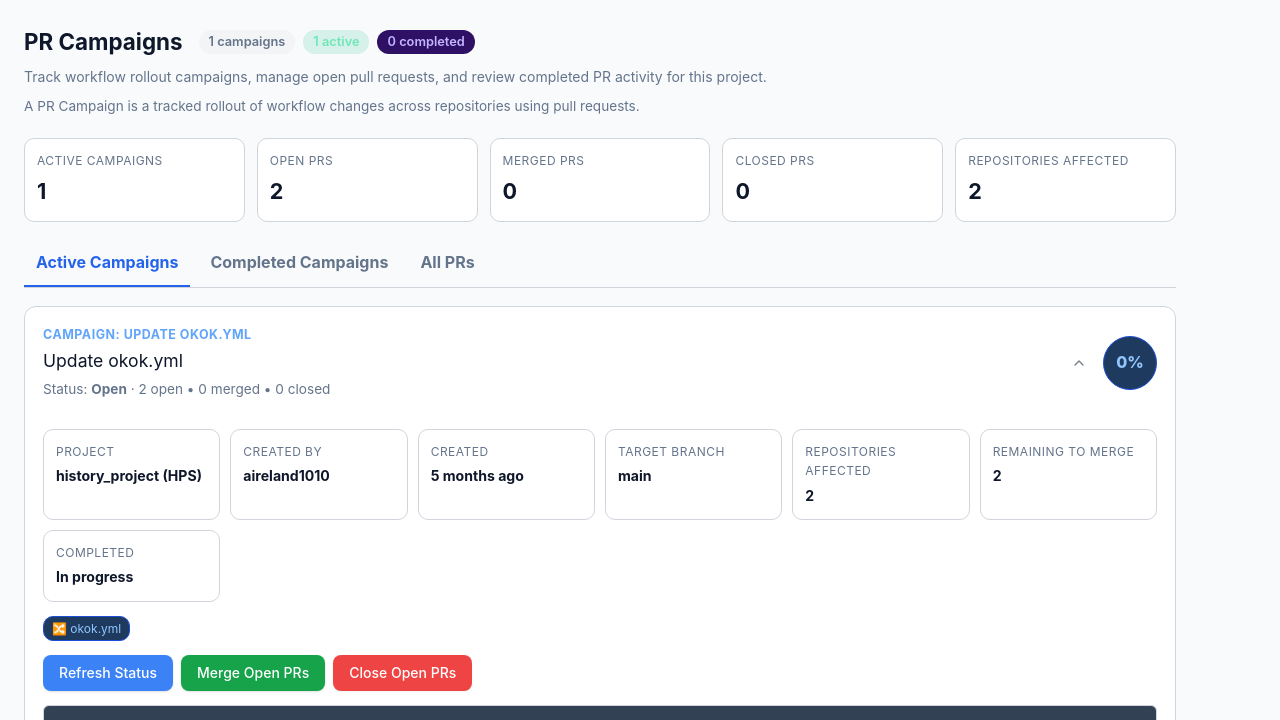
PRHistoryPanel as PR Campaigns › All PRs tab filters campaign activity by repository
The image size is (1280, 720).
Click the button "All PRs" at [448, 264], box [408, 240, 487, 287]
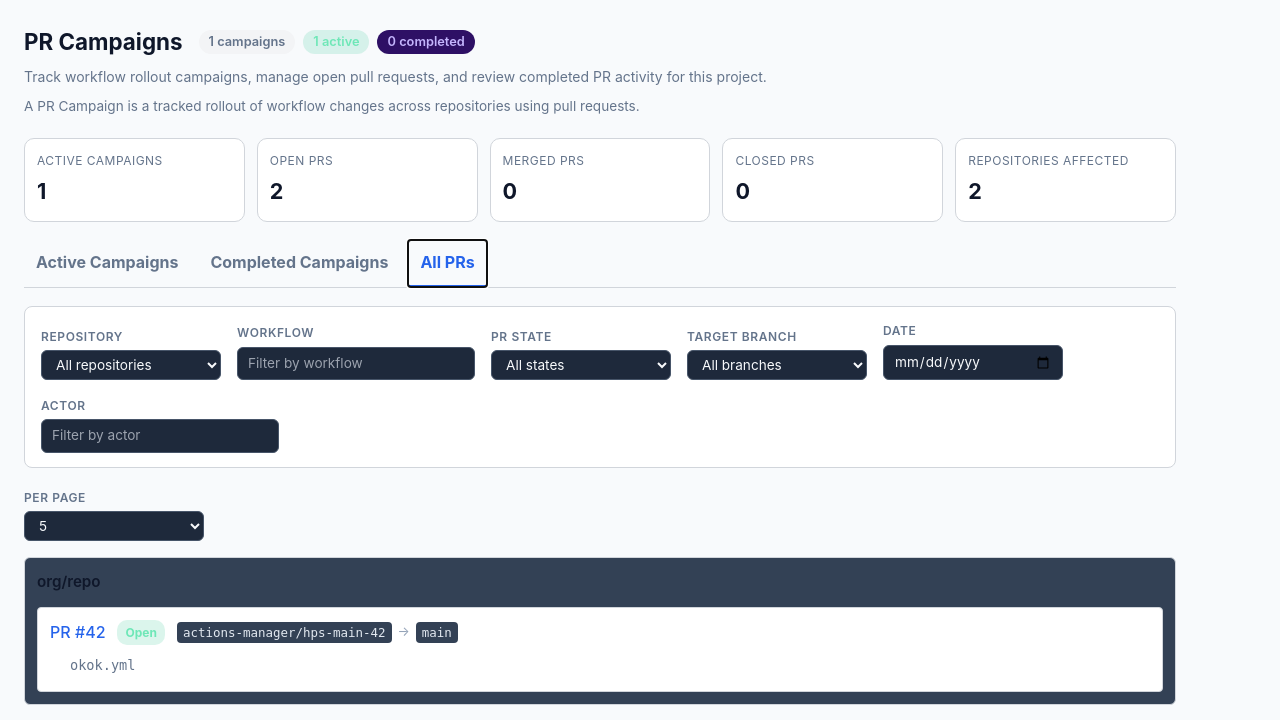
Select "org/other" in the dropdown showing "All repositories" at [131, 365], box [41, 350, 221, 380]
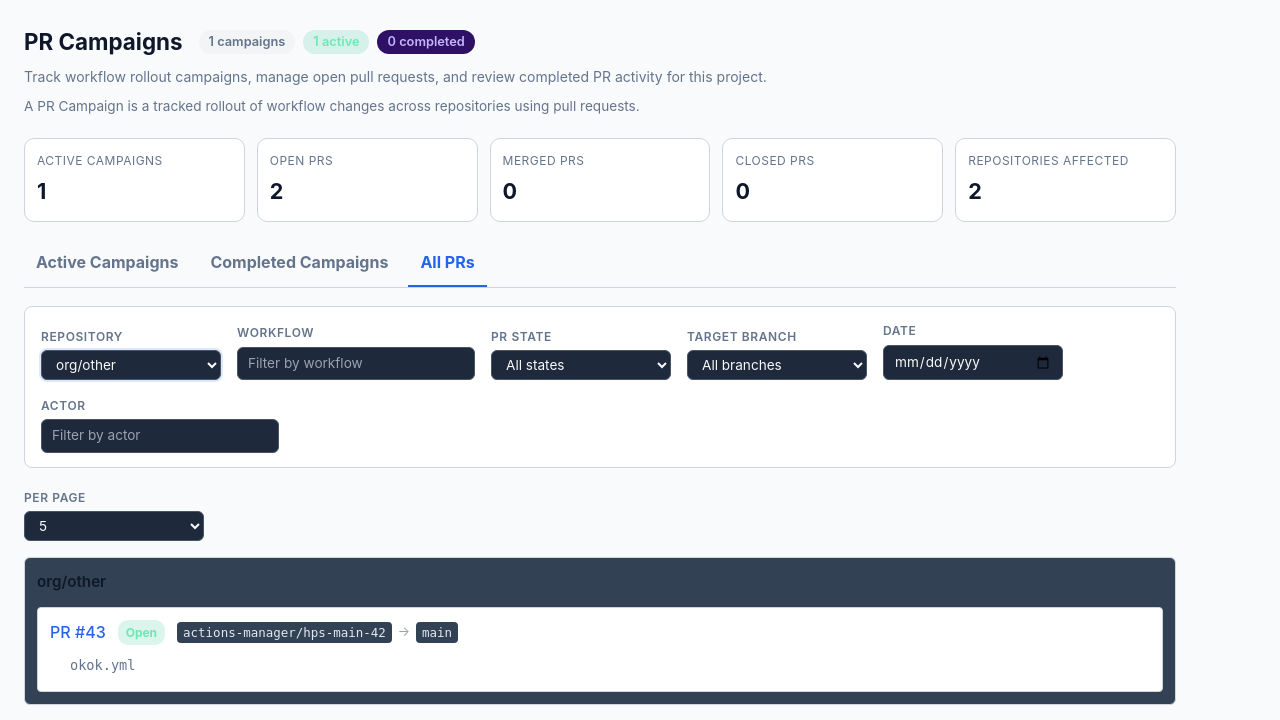
Expected: the link "PR #43" is shown, [50, 620, 106, 645]
Now the link "#42" is gone
